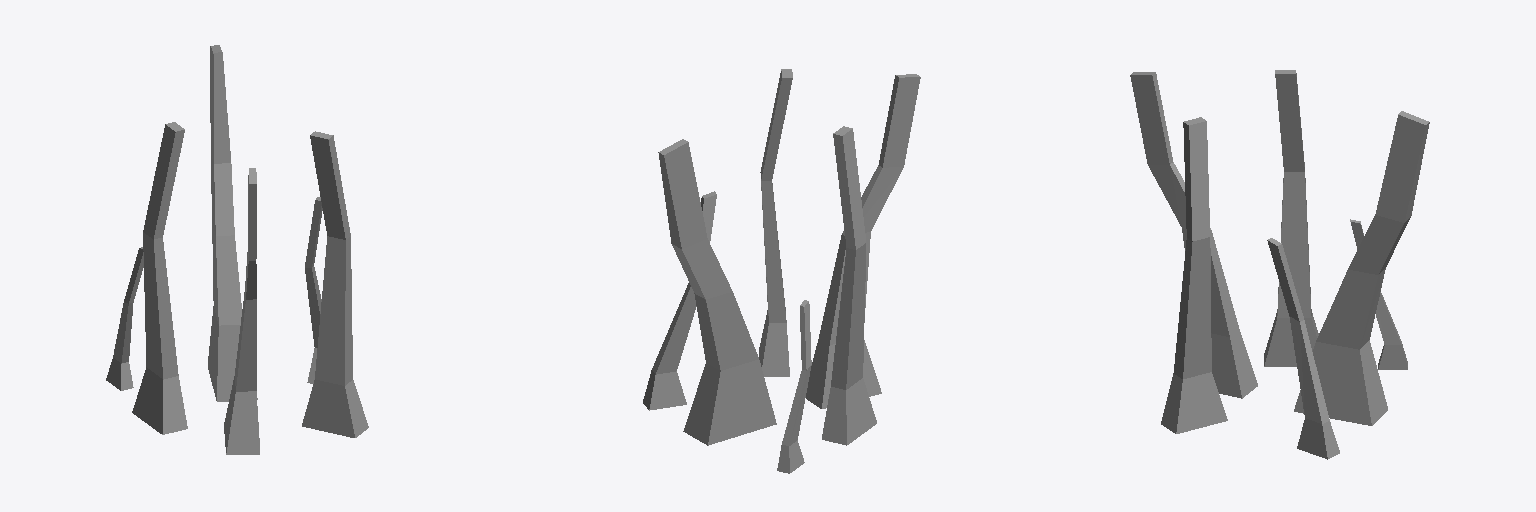
The model's file is Grass2.obj.
The picture shows the model from 3 angles: view 1: azimuth 30°, elevation 25°; view 2: azimuth 150°, elevation 25°; view 3: azimuth 270°, elevation 25°; orthographic projection.
Visible parts, largest first — view 1: Cube.001_Cube.003; view 2: Cube.001_Cube.003; view 3: Cube.001_Cube.003.
Boxes of the visible parts, <box> form: Cube.001_Cube.003: <box>106,45,368,454</box>; Cube.001_Cube.003: <box>643,69,920,473</box>; Cube.001_Cube.003: <box>1130,70,1429,459</box>.
Size of the model in its own units: 0.4987 by 0.7236 by 0.6376.